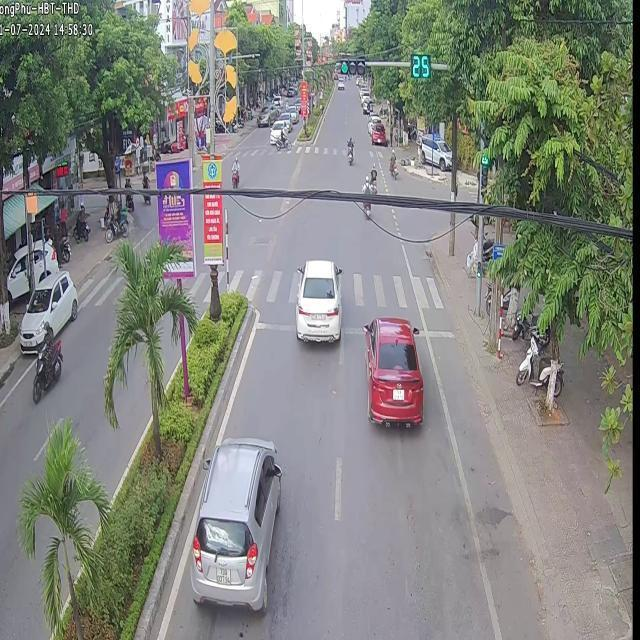car: (188, 436, 279, 610), (362, 316, 422, 425), (17, 269, 77, 351), (294, 258, 340, 340)
green_light: (409, 51, 429, 76), (339, 59, 365, 75), (480, 145, 488, 176)
motobike: (30, 320, 60, 402)
stop_line: (256, 321, 293, 329), (342, 325, 362, 334), (427, 329, 452, 336)
